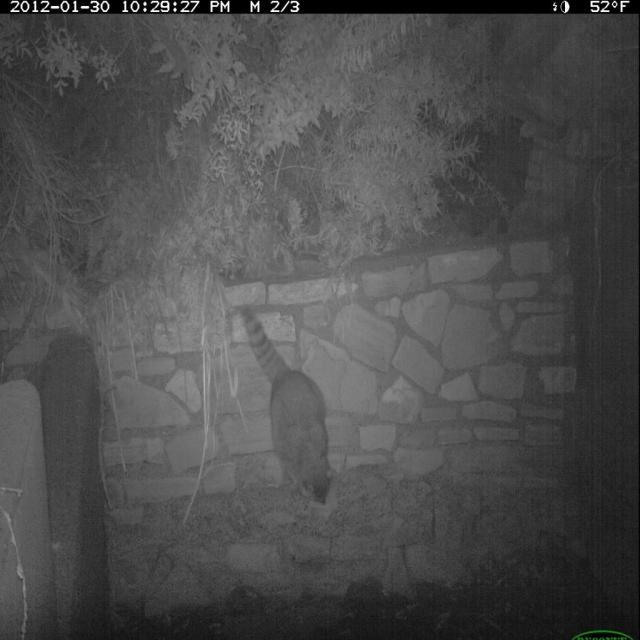raccoon: (235, 301, 341, 514)
